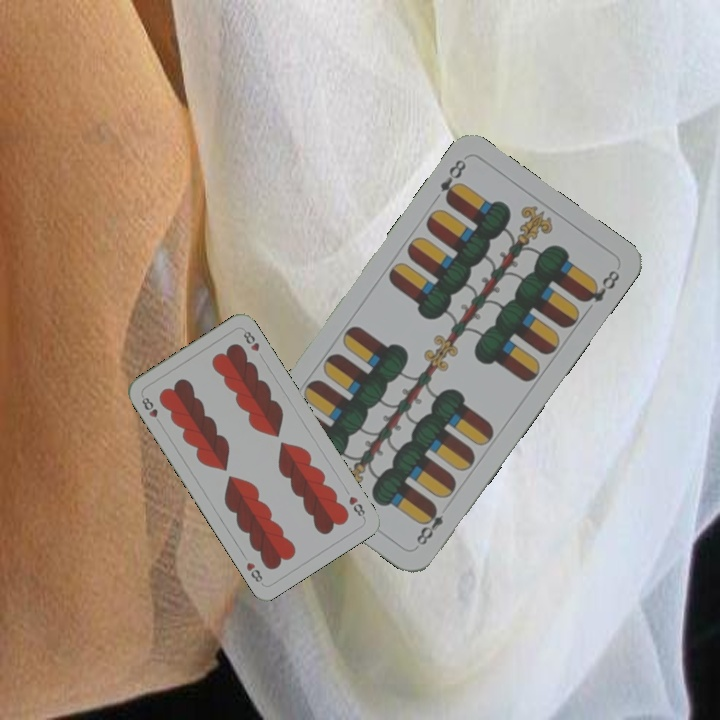E8: (435, 155, 469, 207), (412, 501, 446, 550)
H8: (138, 393, 164, 428), (345, 492, 368, 521)
